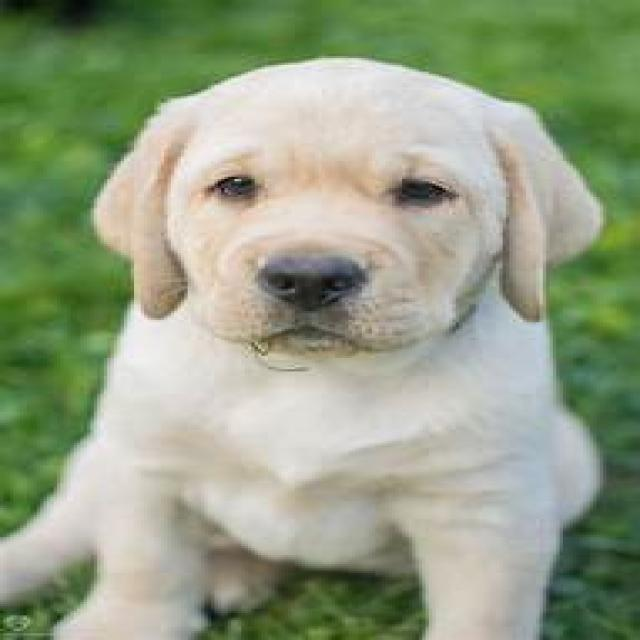dog: (0, 57, 608, 640)
